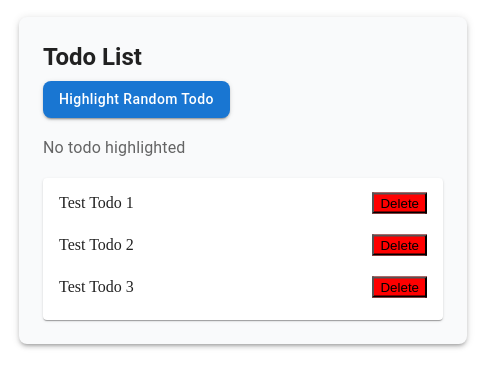
Test: todo list › highlights 'Test Todo 2'
Click the button "Highlight Random Todo".
click(136, 100)  # box top-left (43, 81), bottom-right (230, 118)
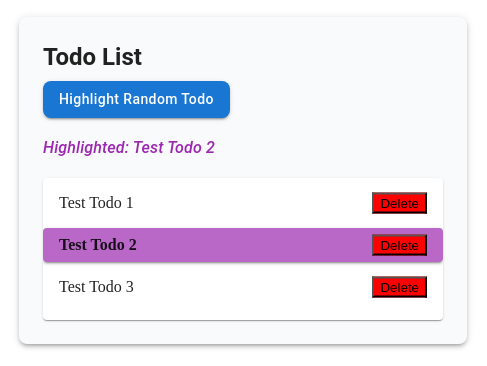
Now the heading "Highlighted: Test Todo 2" is shown, box top-left (43, 138), bottom-right (215, 157)
